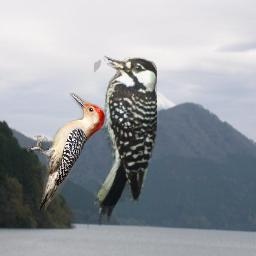Woodpecker: (94, 55, 157, 226), (26, 93, 107, 214)
